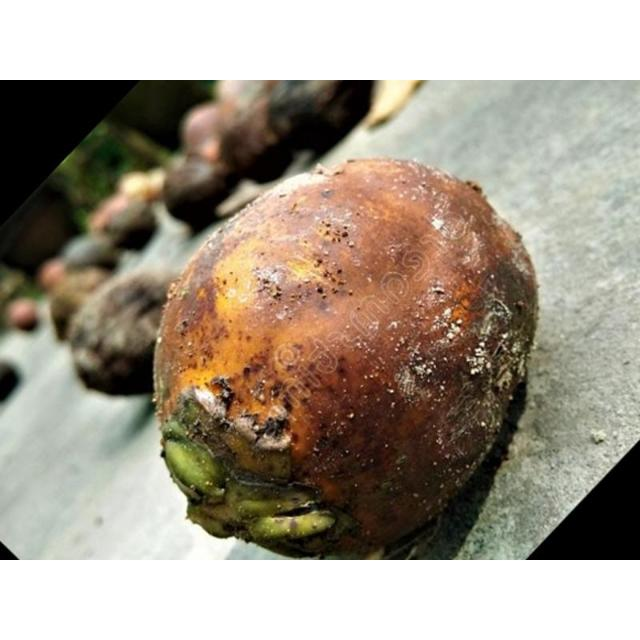damaged: (152, 157, 540, 559)
